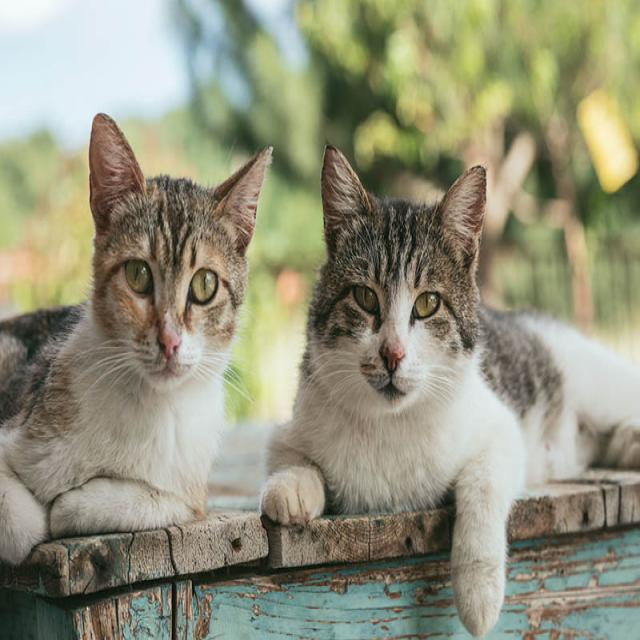cat: (261, 146, 640, 636), (0, 114, 271, 563)
